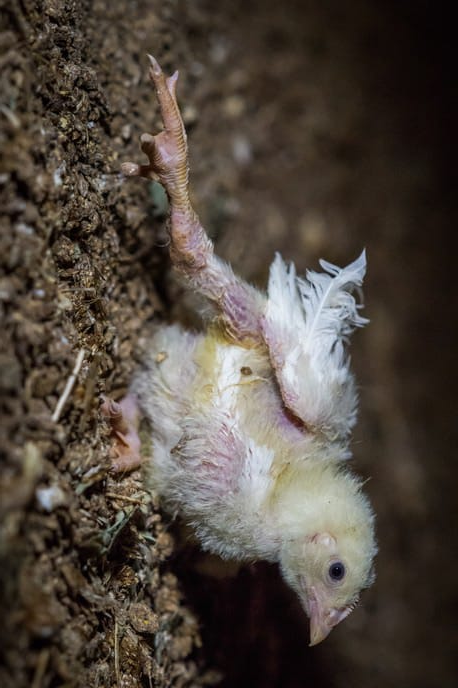Unhealthy: (109, 45, 409, 652)
